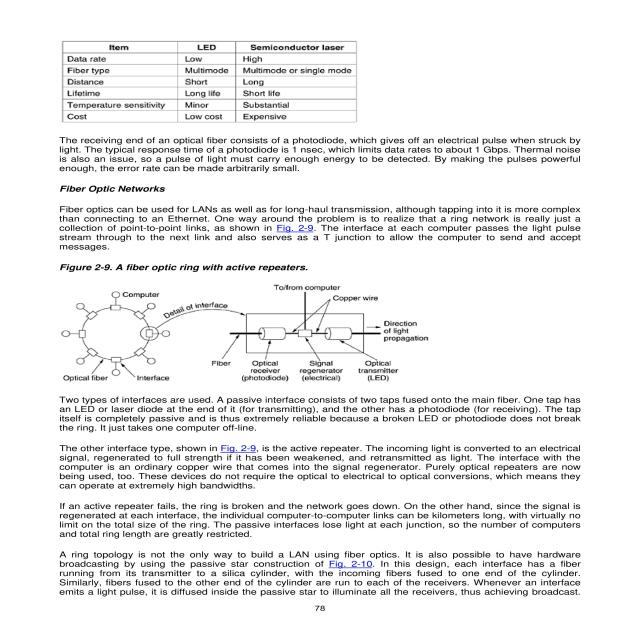diagram: (58, 258, 479, 391)
